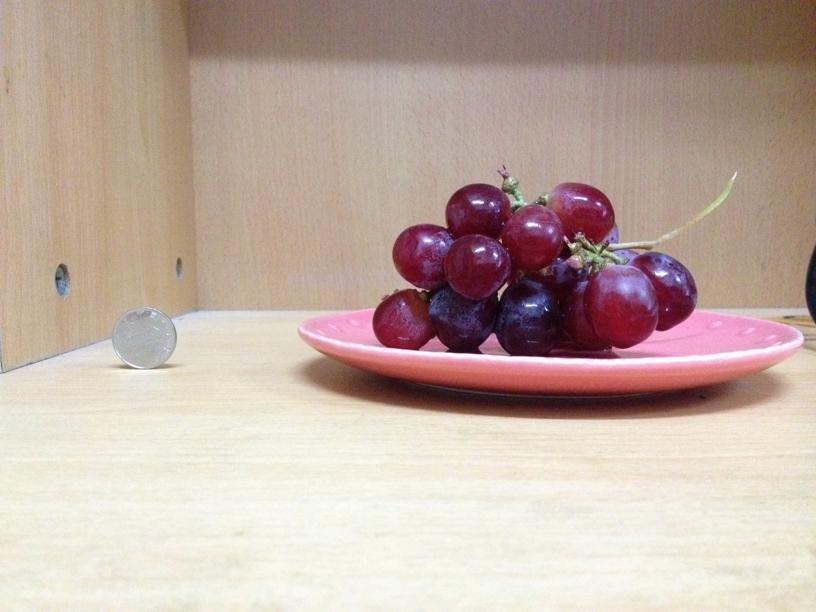coin: (110, 305, 178, 369)
grape: (378, 178, 698, 351)
